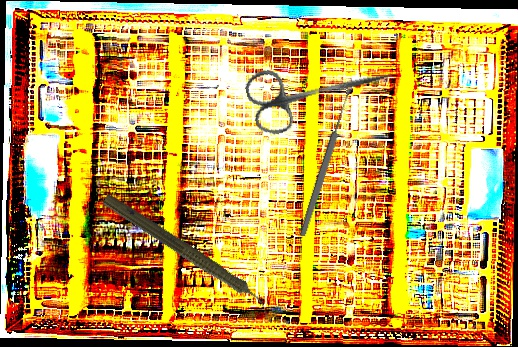Handpiece: (97, 190, 280, 320)
Iris Scissors: (242, 40, 401, 140)
Surgical Spoon: (297, 87, 355, 238)
